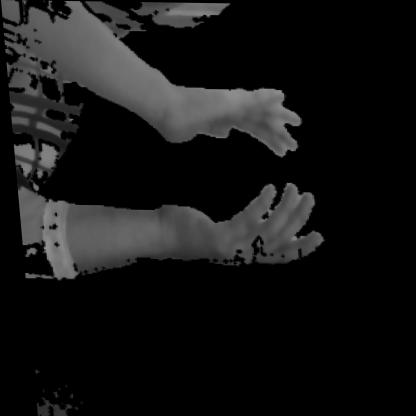clap: (74, 48, 348, 307)
